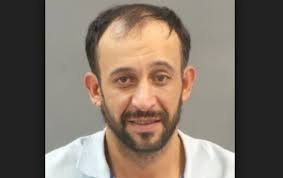middle_eastern_male: (95, 23, 180, 146)
